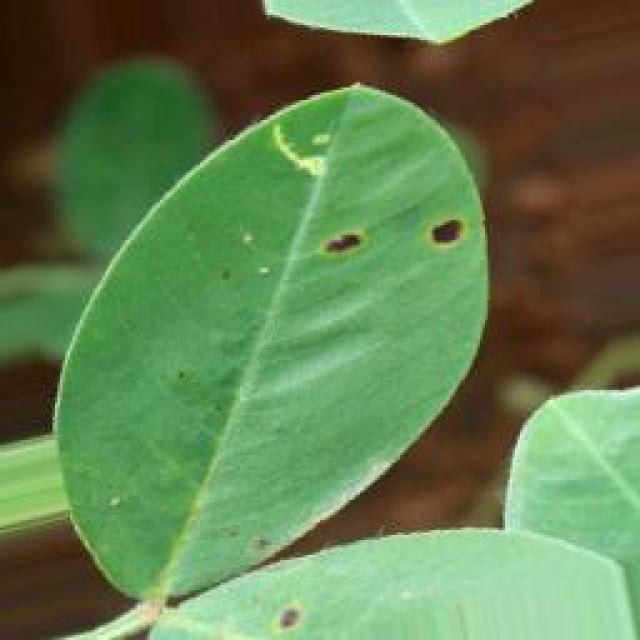Sigatoka: (317, 212, 396, 283), (405, 194, 475, 267), (245, 589, 338, 640)
